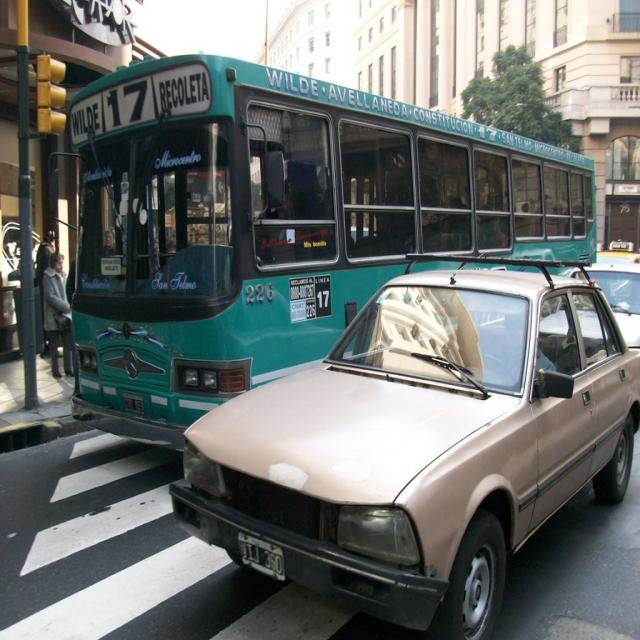other: (163, 271, 625, 619), (540, 262, 639, 365), (596, 242, 640, 266)
